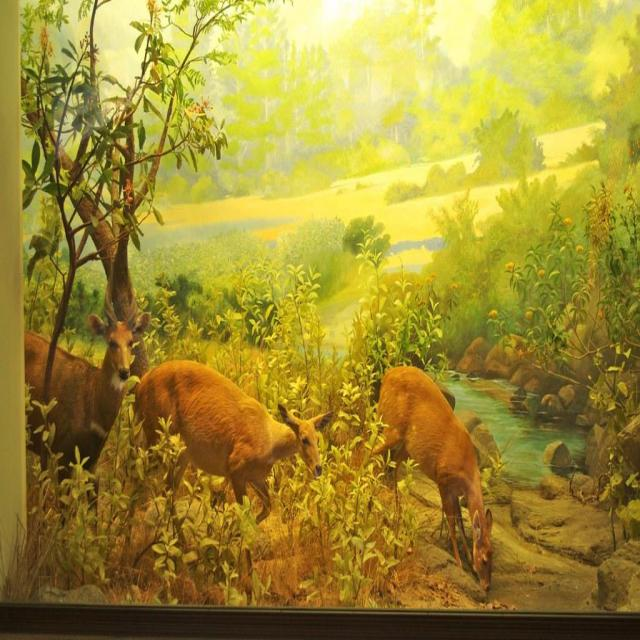Deer: (134, 358, 336, 602), (21, 276, 151, 544), (366, 367, 494, 592)
